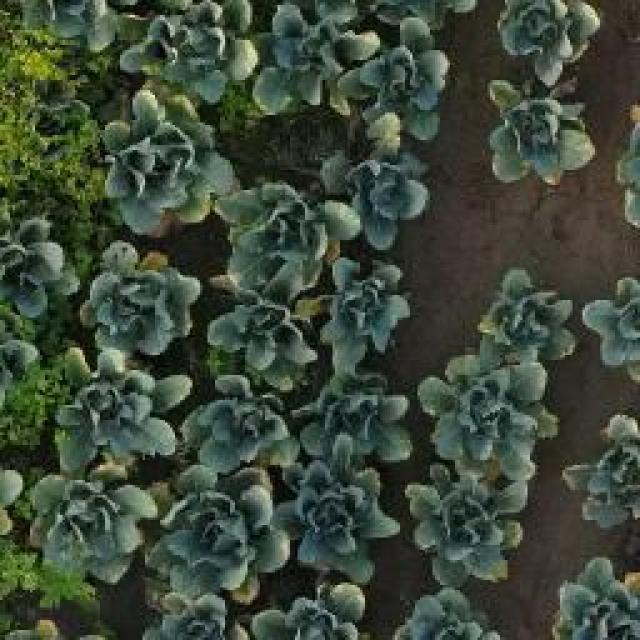cabbage: (53, 343, 190, 481), (25, 471, 163, 596), (99, 98, 226, 232), (269, 461, 401, 586), (216, 177, 340, 307), (403, 473, 533, 589), (336, 19, 456, 142), (434, 357, 554, 474), (121, 0, 256, 101), (175, 375, 306, 477), (158, 470, 268, 588), (88, 250, 198, 368), (319, 147, 435, 254), (286, 375, 419, 468), (489, 77, 598, 190), (248, 0, 355, 115), (310, 259, 416, 375), (475, 258, 578, 364), (198, 302, 320, 390), (492, 0, 614, 87), (561, 407, 640, 529), (0, 212, 80, 320), (550, 552, 640, 640), (585, 270, 640, 380), (390, 597, 510, 640), (258, 595, 367, 640), (19, 0, 112, 51), (146, 602, 245, 640)
